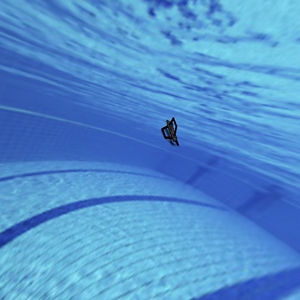submarine: (149, 101, 190, 161)
